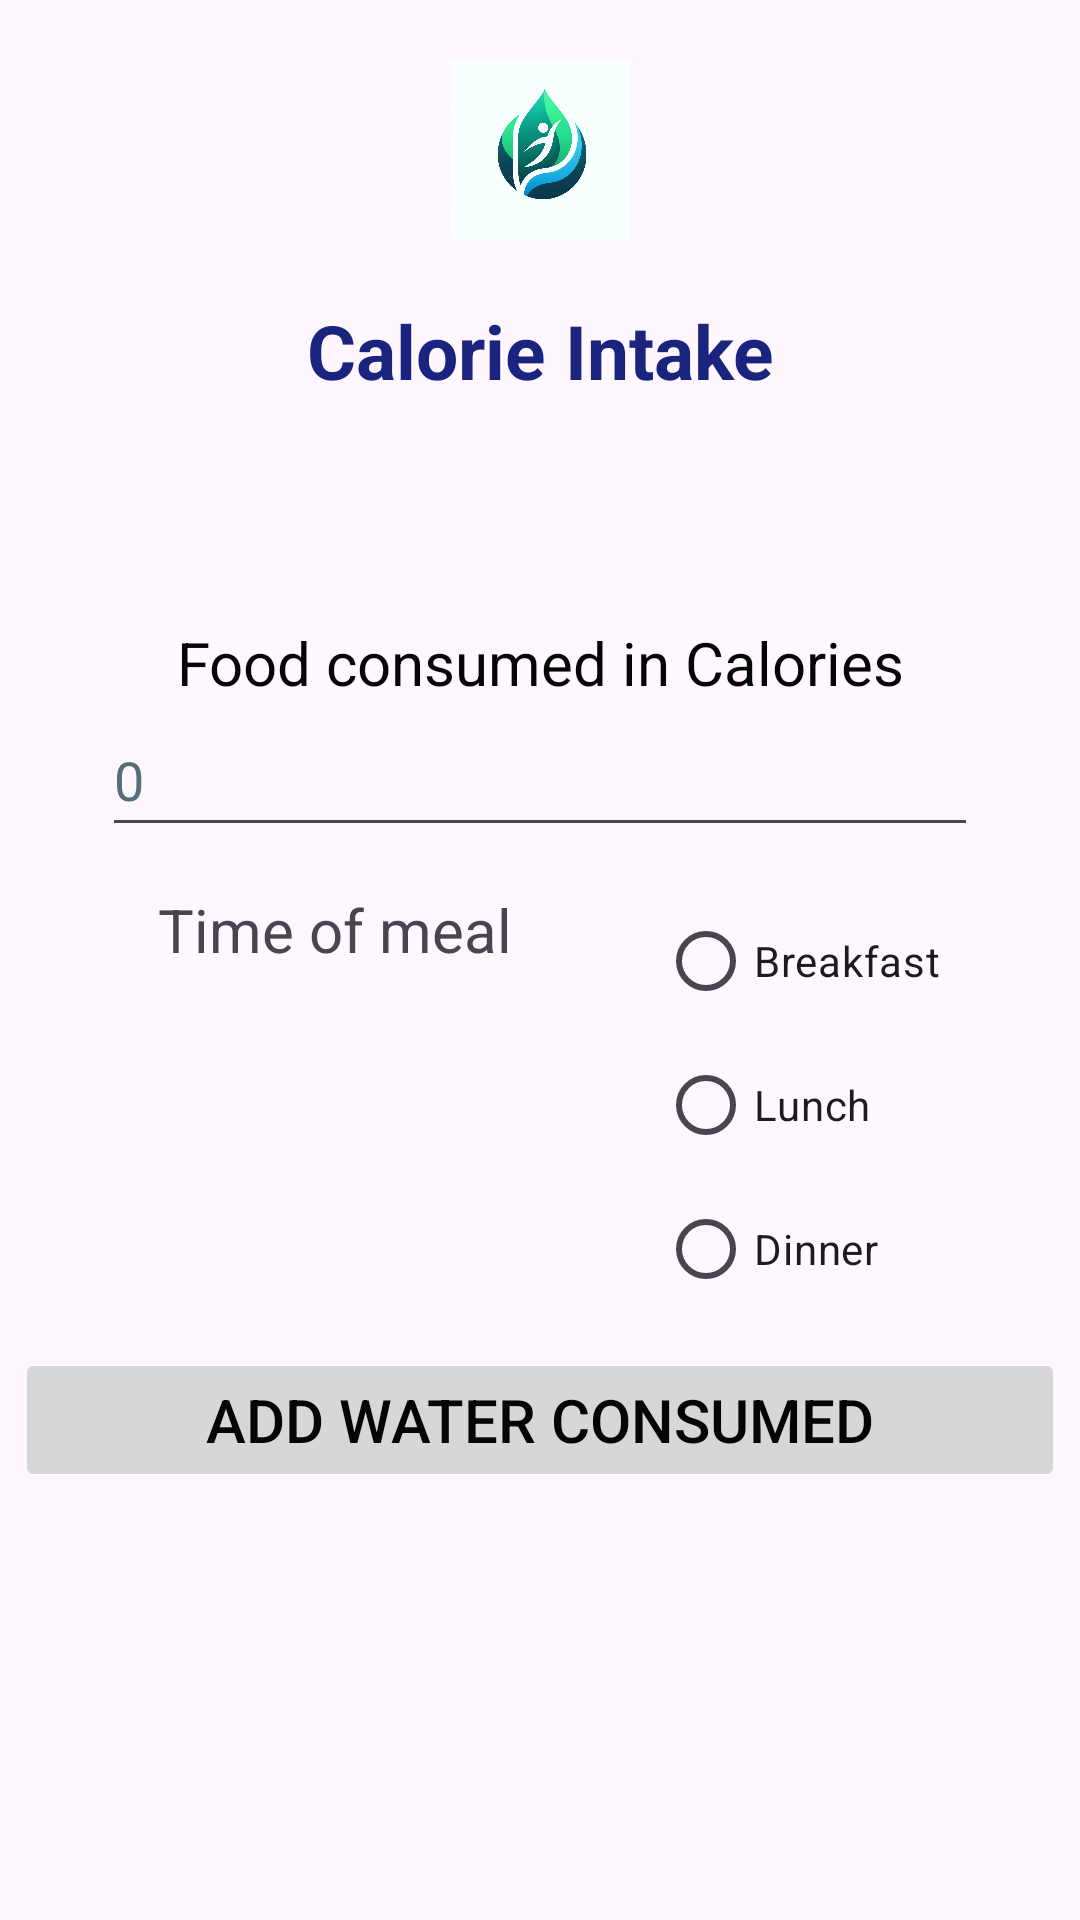

Where icons sit on this 1080w x 1920h app screen, as [x1=x1, y1=y1, x2=x2, y2=y2]:
app icon: [x1=498, y1=89, x2=587, y2=199]
